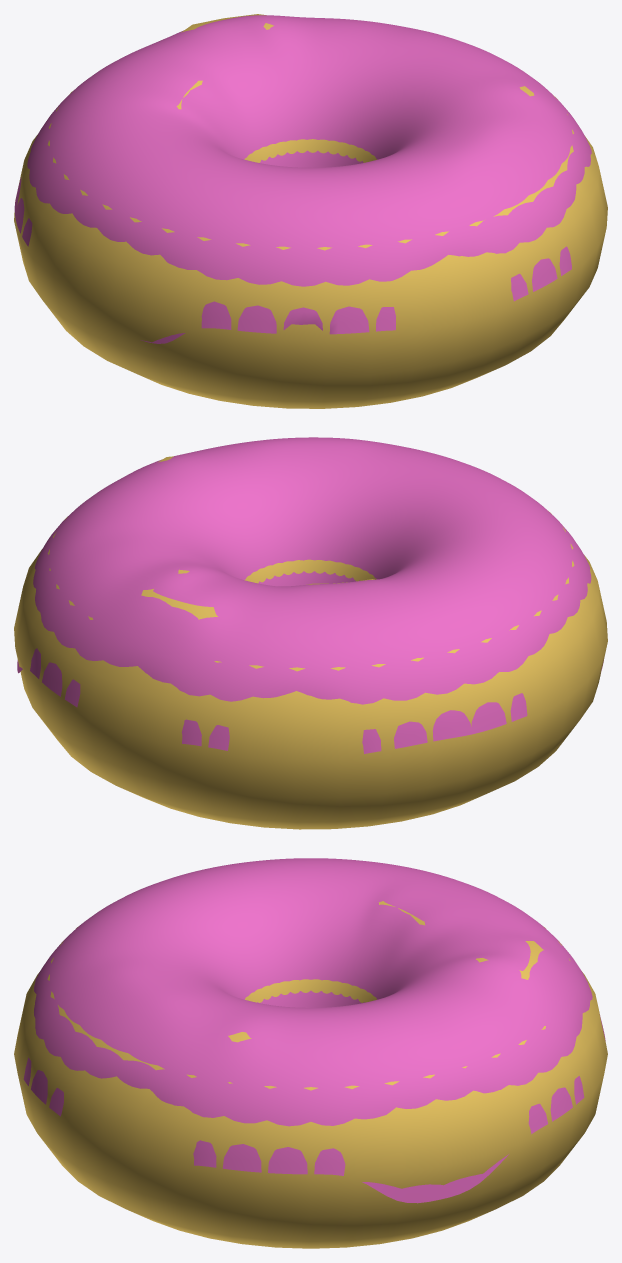
The model's file is donut.glb.
3 renders of one model, top to bottom at view 1: azimuth 30°, elevation 25°; view 2: azimuth 150°, elevation 25°; view 3: azimuth 270°, elevation 25°, orthographic.
Parts seen in each view (by area): view 1: iCING, Doughtnut; view 2: iCING, Doughtnut; view 3: iCING, Doughtnut.
Part boxes in pixels (x1,y1,x2,y2): iCING: (14, 15, 591, 343); Doughtnut: (14, 14, 607, 408); iCING: (17, 437, 603, 753); Doughtnut: (14, 456, 607, 829); iCING: (23, 858, 605, 1203); Doughtnut: (14, 901, 607, 1248).
Size of the model in its own units: 0.1 by 0.0418 by 0.1.
